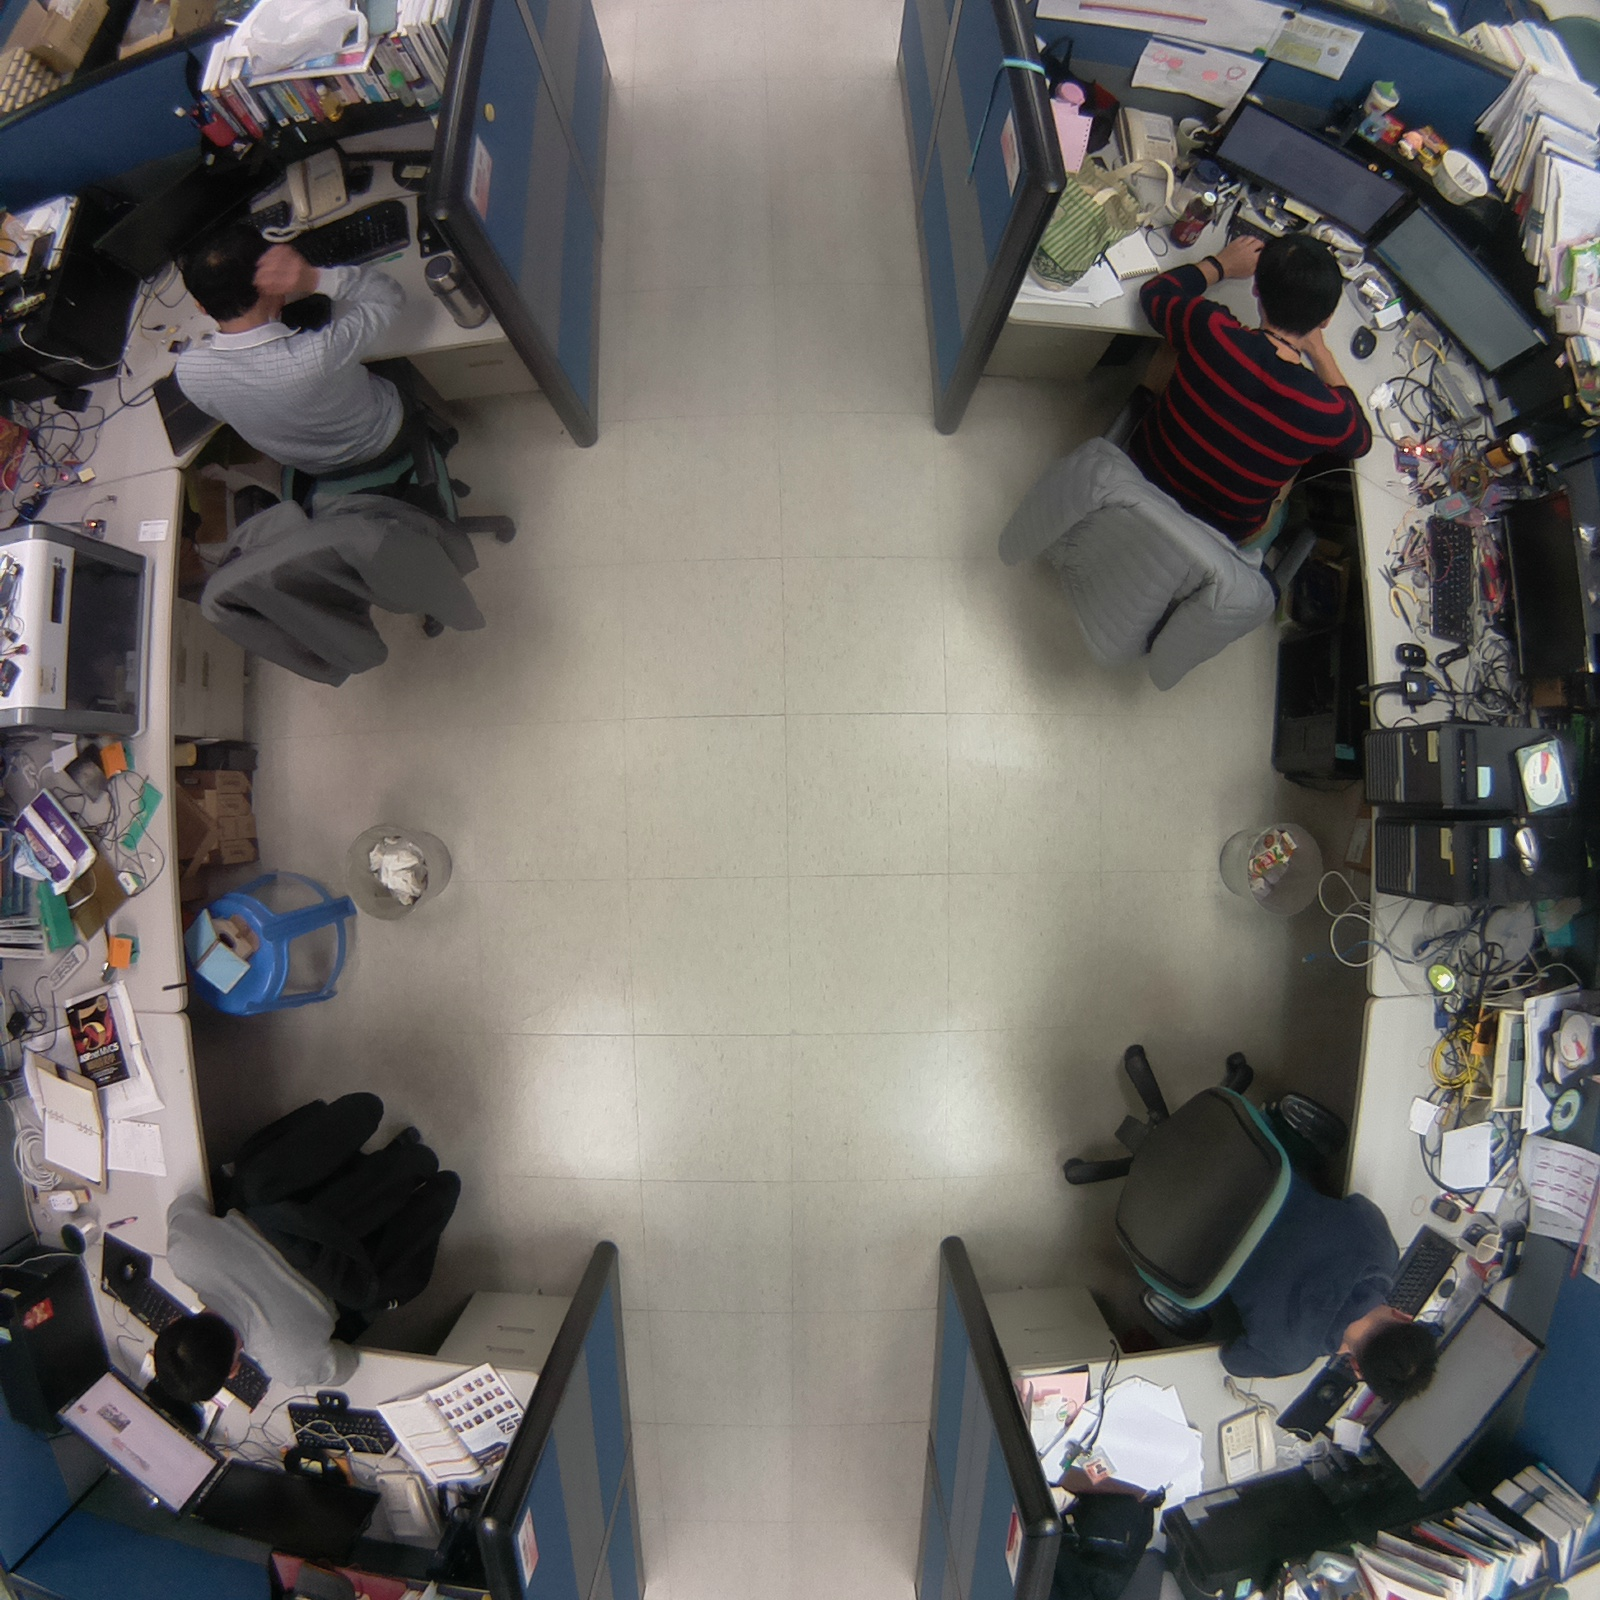head: (174, 193, 276, 329), (1246, 221, 1351, 340), (146, 1302, 246, 1419), (1349, 1300, 1442, 1412)
sitting: (142, 188, 524, 699), (994, 227, 1394, 706), (1055, 1017, 1450, 1414), (135, 1068, 478, 1424)
